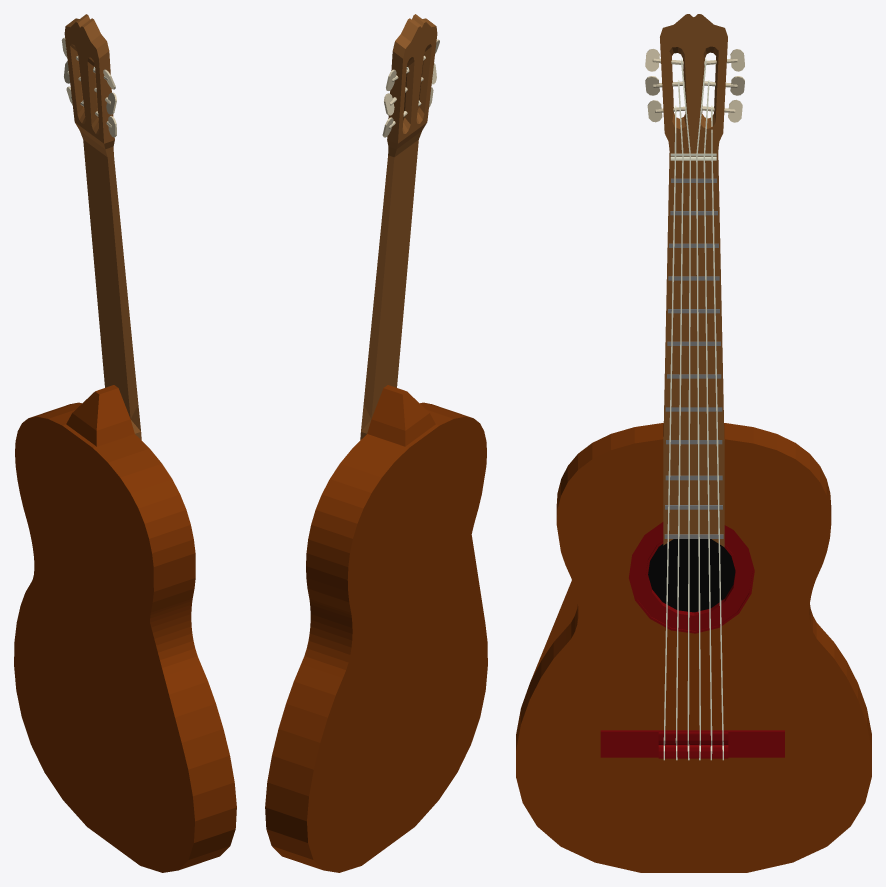
Rendered from Brown_Guitar.fbx.
3 renders of one model, left to right at view 1: azimuth 30°, elevation 25°; view 2: azimuth 150°, elevation 25°; view 3: azimuth 270°, elevation 25°, orthographic.
Parts seen in each view (by area): view 1: brown; view 2: brown; view 3: brown.
Part boxes in pixels (x1,y1,x2,y2): brown: (14,14,236,872); brown: (265,14,487,872); brown: (516,14,871,872).
Bounding box in the file's own units: 55.57 × 570 × 221.
Materials: 1 (1 with a texture image).
